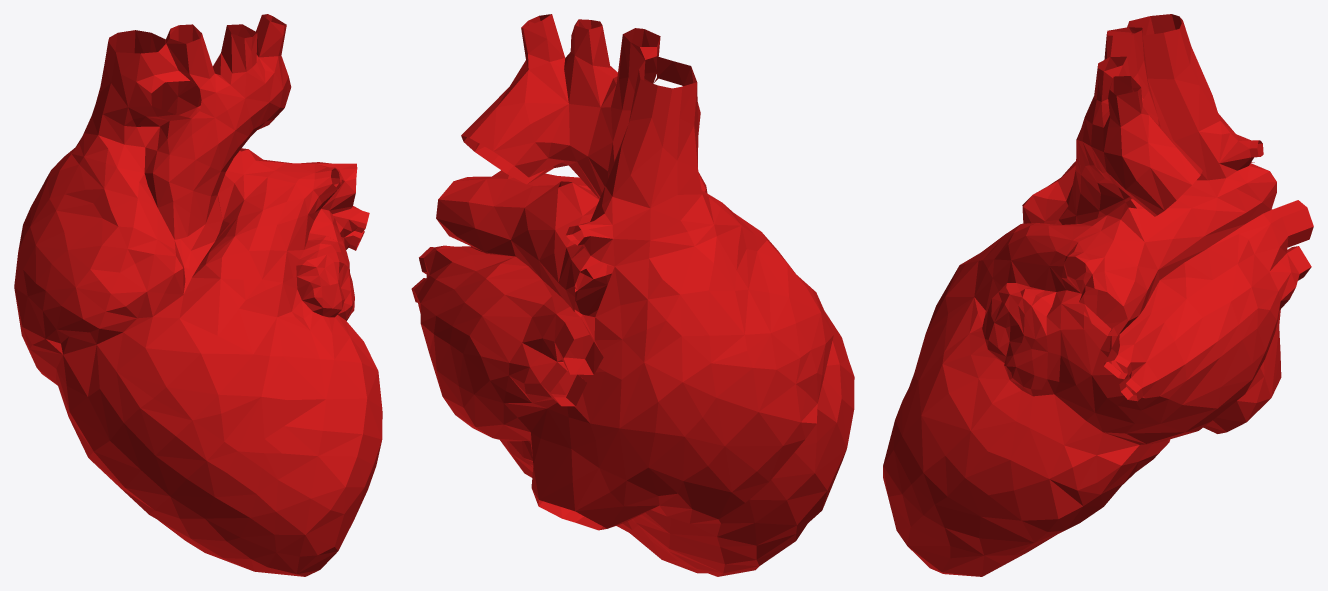
File: heart.dae
3 views of the same model, side by side, from view 1: azimuth 30°, elevation 25°; view 2: azimuth 150°, elevation 25°; view 3: azimuth 270°, elevation 25° (orthographic). The views are drawn at different scales.
Visible parts, largest first — view 1: Component; view 2: Component; view 3: Component.
Part boxes in pixels (box(x1,y1,x2,y2)): Component: box(14, 14, 382, 576); Component: box(411, 14, 854, 576); Component: box(883, 14, 1313, 576).
Bounding box in the file's own units: 5.82 × 6.09 × 8.3.
